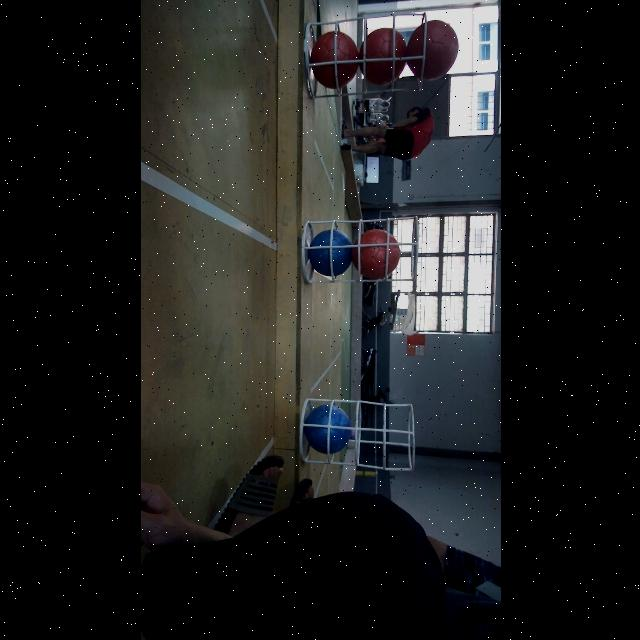B: (303, 404, 351, 454), (310, 227, 352, 277)
R: (404, 19, 458, 82), (356, 27, 406, 84), (312, 32, 358, 86), (352, 228, 401, 278)
